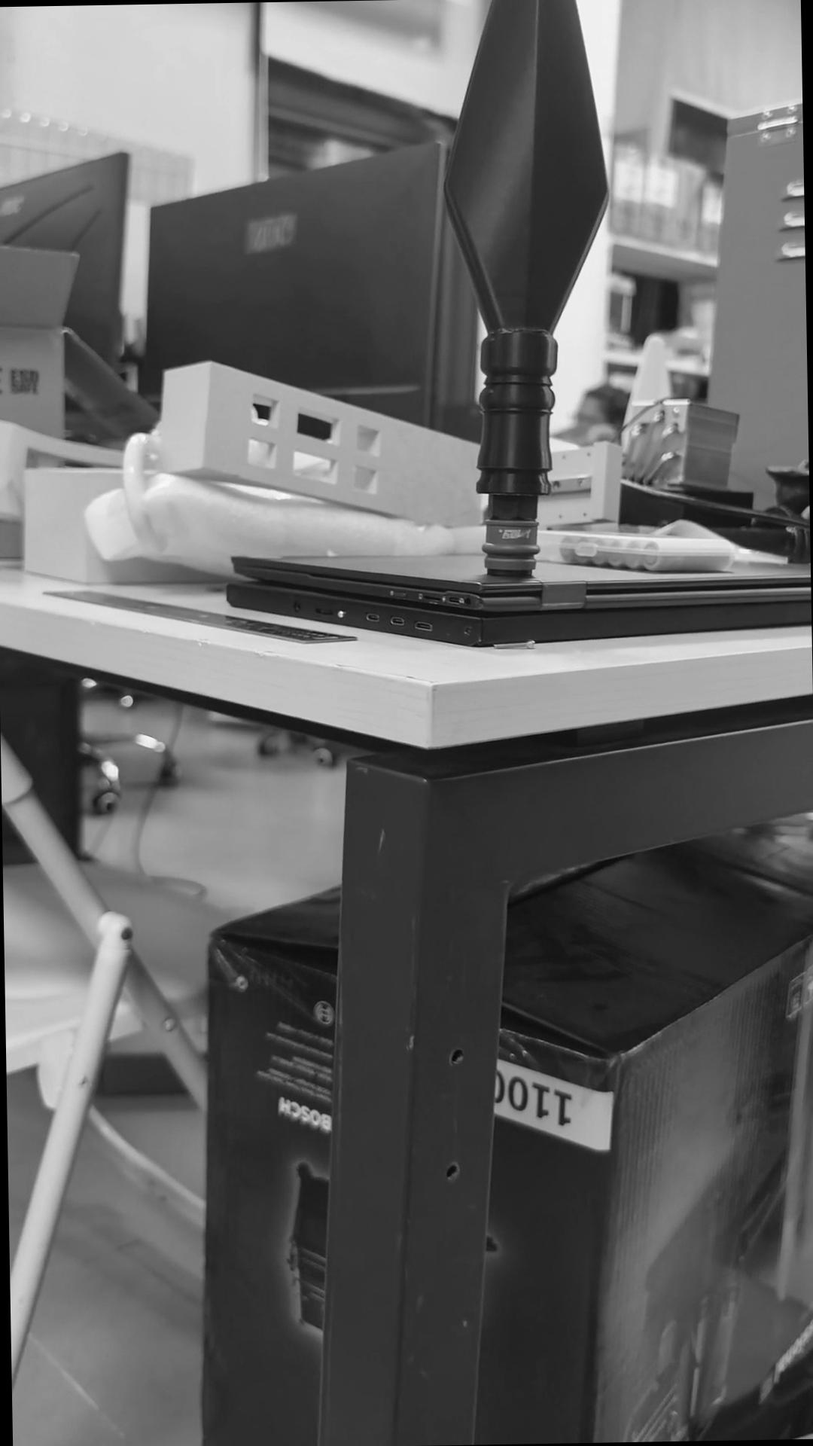base: (484, 517, 539, 578)
